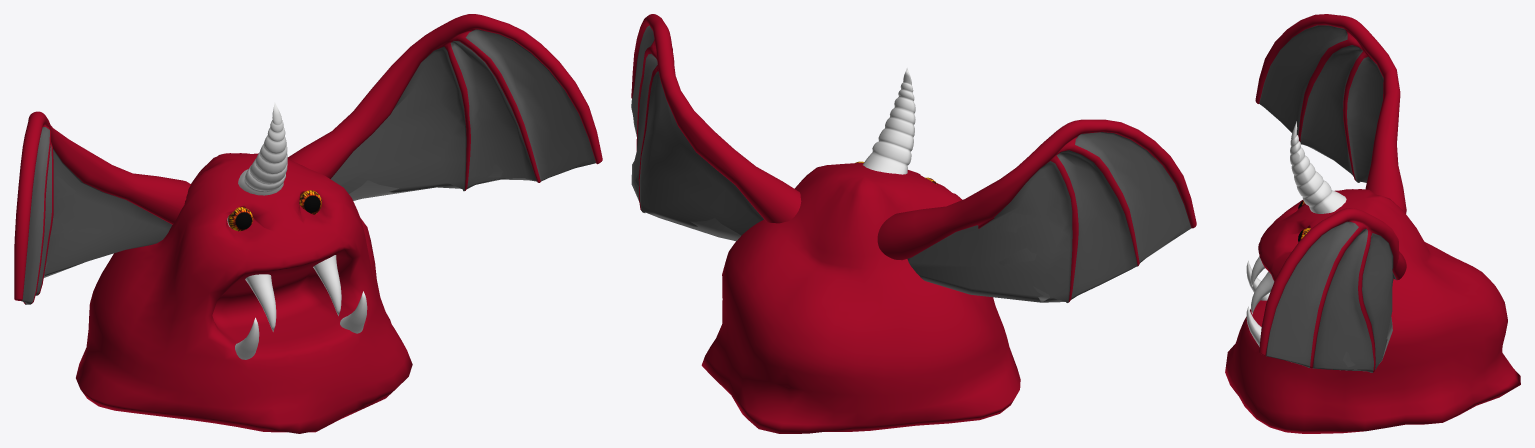
The model's file is boss_vorn.fbx.
3 views of the same model, side by side, from view 1: azimuth 30°, elevation 25°; view 2: azimuth 150°, elevation 25°; view 3: azimuth 270°, elevation 25° (orthographic). The views are drawn at different scales.
Parts seen in each view (by area): view 1: polySurface18; view 2: polySurface18; view 3: polySurface18.
Part boxes in pixels (box(x1,y1,x2,y2)): polySurface18: box(14, 14, 602, 433); polySurface18: box(631, 14, 1196, 433); polySurface18: box(1225, 14, 1520, 433).
Size of the model in its own units: 8.26 by 4.32 by 4.13.
4 materials, 1 textured.
